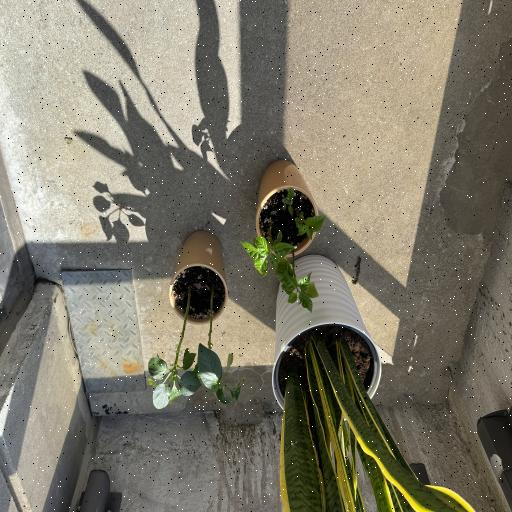Plant Pot: (268, 256, 382, 405), (256, 155, 318, 256), (167, 231, 228, 323)
